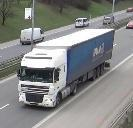Car: (75, 18, 90, 27), (102, 16, 114, 24), (126, 20, 133, 29)
Truck: (16, 29, 114, 110), (20, 27, 45, 44)
